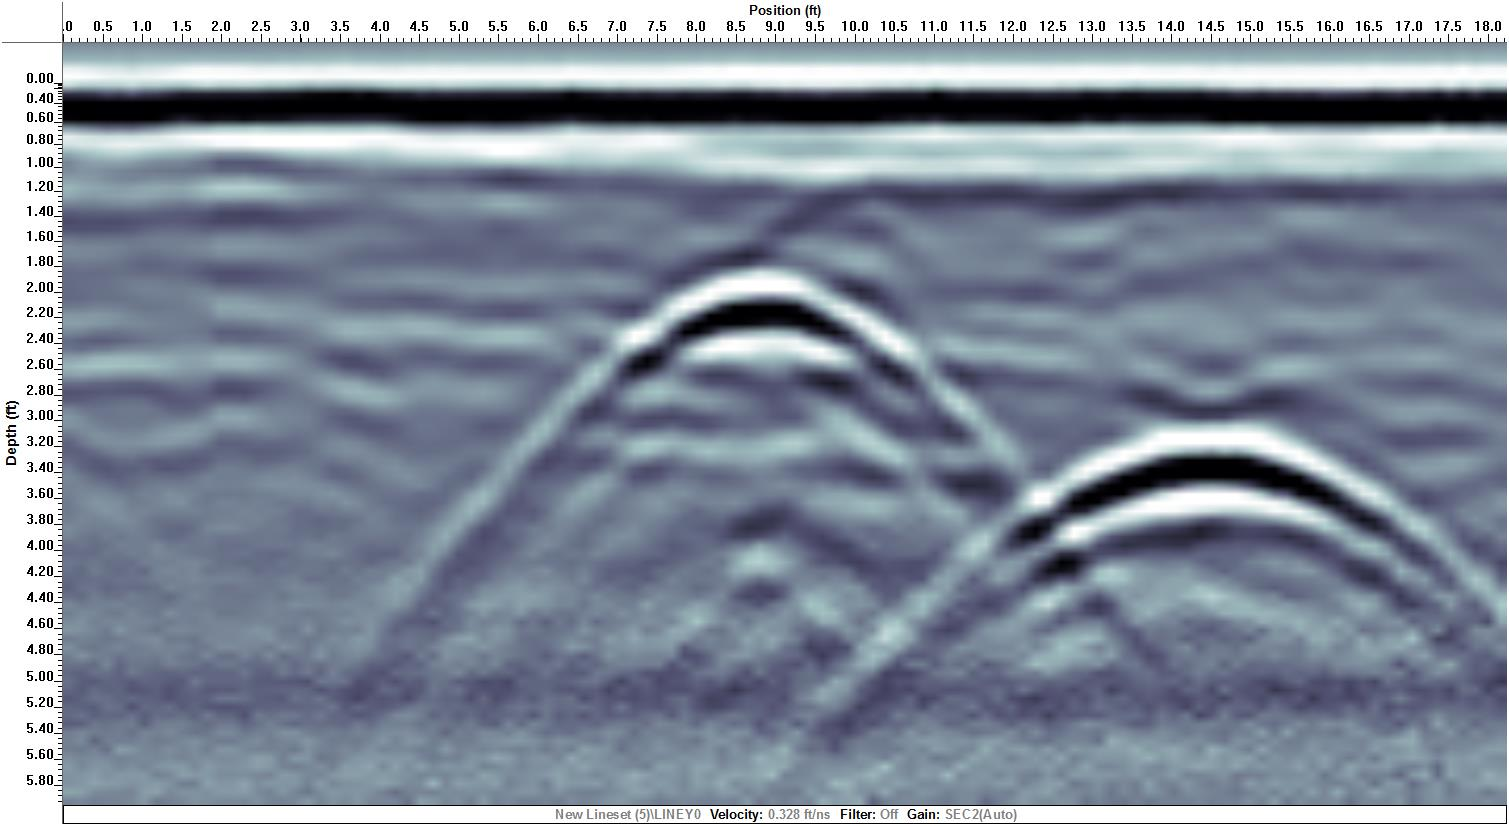hyperbola: (853, 421, 1506, 699)
